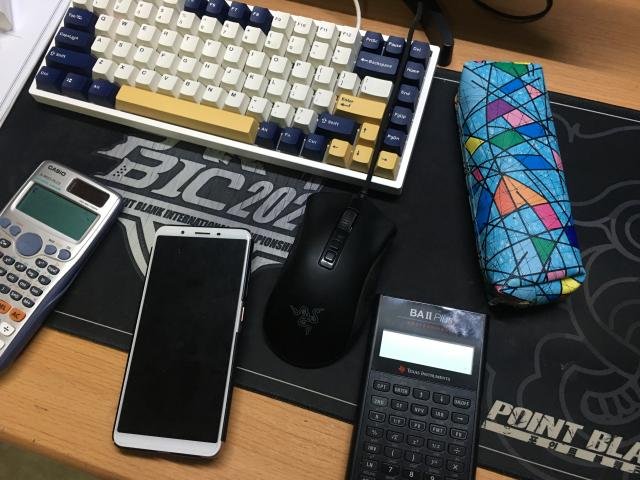Mobile phone: (112, 225, 252, 458)
Mouse: (263, 4, 421, 369)
